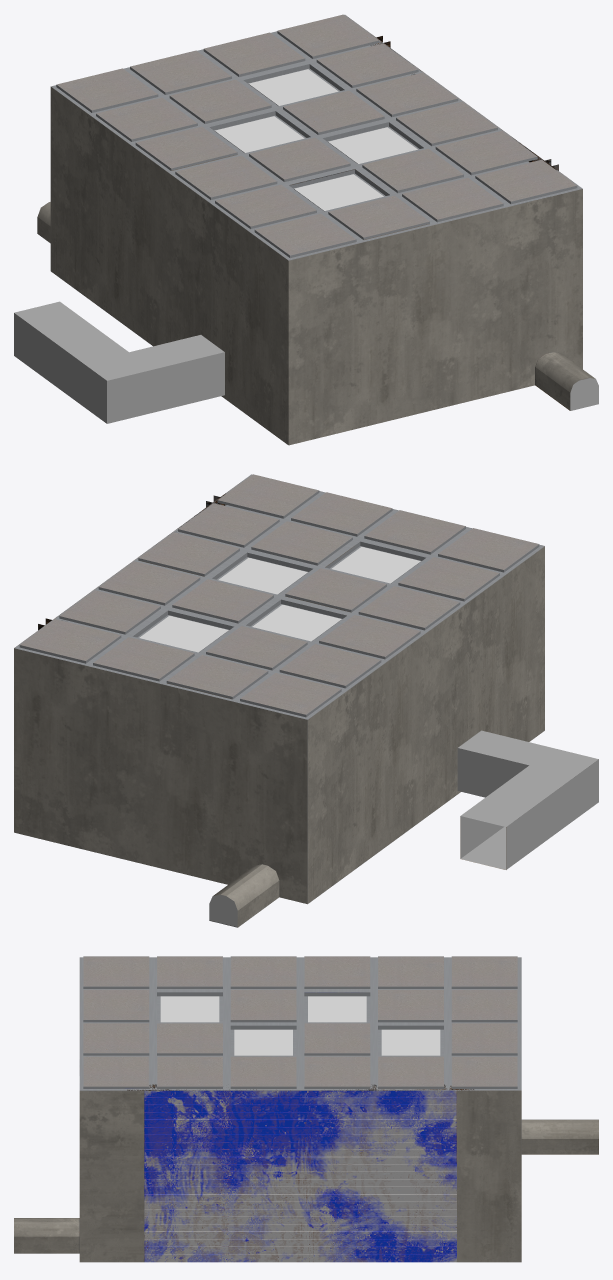
File: Room (2) 1.fbx
The picture shows the model from 3 angles, top to bottom: view 1: azimuth 30°, elevation 25°; view 2: azimuth 150°, elevation 25°; view 3: azimuth 270°, elevation 25°; orthographic projection. The views are drawn at different scales.
Visible parts, largest first — view 1: Main_walls, Ceiling; view 2: Main_walls, Ceiling; view 3: Main_walls, Ceiling.
Boxes of the visible parts, x1,y1,x2,y2 form: Main_walls: (14,34,598,445); Ceiling: (51,14,582,260); Main_walls: (14,493,598,927); Ceiling: (14,474,544,719); Main_walls: (14,1084,598,1262); Ceiling: (79,956,521,1090).
Bounding box in the file's own units: 7.12 × 3.04 × 9.26.
